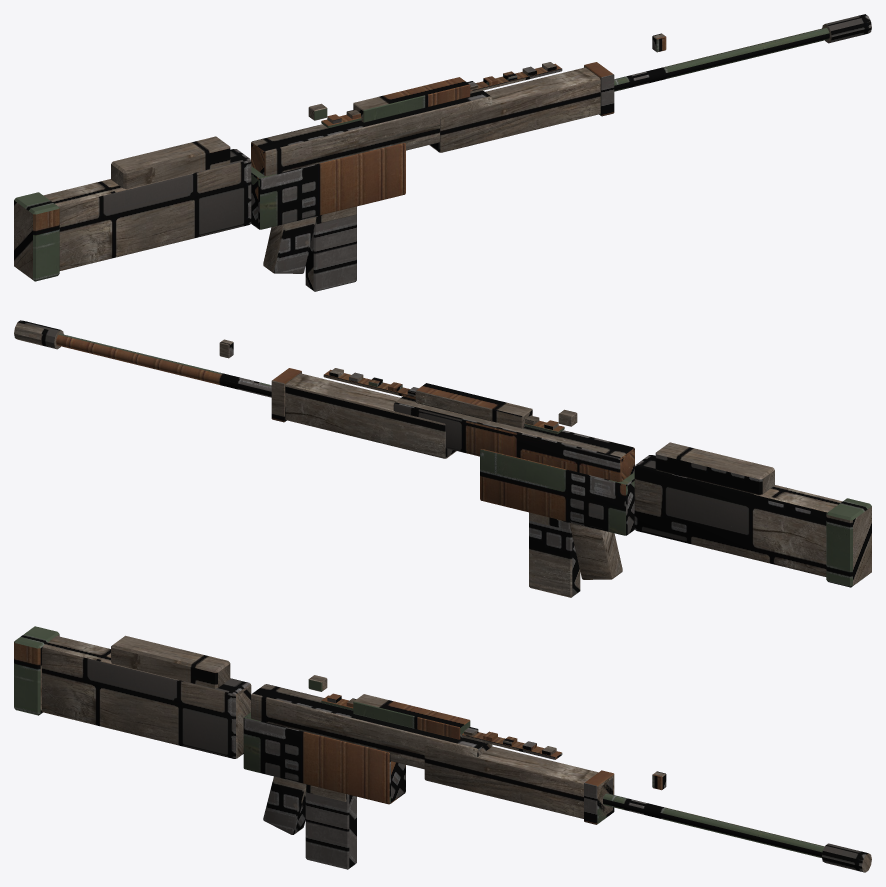
Rendered from weapon_scout_rifle.glb.
3 renders of one model, top to bottom at view 1: azimuth 30°, elevation 25°; view 2: azimuth 150°, elevation 25°; view 3: azimuth 330°, elevation 25°, orthographic.
Visible parts, largest first — view 1: Body, DefaultStock, DefaultMag, DefaultBarrel, DefaultMuzzle; view 2: Body, DefaultStock, DefaultMag, DefaultBarrel, DefaultMuzzle; view 3: Body, DefaultStock, DefaultMag, DefaultBarrel, DefaultMuzzle, IronSights.
Part boxes in pixels (left/top/right/bottom): Body: left=251, top=62, right=614, bottom=273; DefaultStock: left=14, top=136, right=251, bottom=281; DefaultMag: left=305, top=206, right=356, bottom=291; DefaultBarrel: left=614, top=27, right=829, bottom=91; DefaultMuzzle: left=822, top=14, right=871, bottom=43; Body: left=271, top=368, right=634, bottom=579; DefaultStock: left=634, top=442, right=871, bottom=587; DefaultMag: left=529, top=512, right=580, bottom=597; DefaultBarrel: left=56, top=333, right=271, bottom=397; DefaultMuzzle: left=14, top=320, right=63, bottom=349; Body: left=243, top=684, right=614, bottom=834; DefaultStock: left=14, top=626, right=251, bottom=758; DefaultMag: left=305, top=789, right=356, bottom=869; DefaultBarrel: left=603, top=793, right=824, bottom=857; DefaultMuzzle: left=822, top=843, right=871, bottom=872; IronSights: left=308, top=675, right=666, bottom=790.
Bounding box in the file's own units: 1.26 × 0.2575 × 0.055.
Materials: 1 (1 with a texture image).
